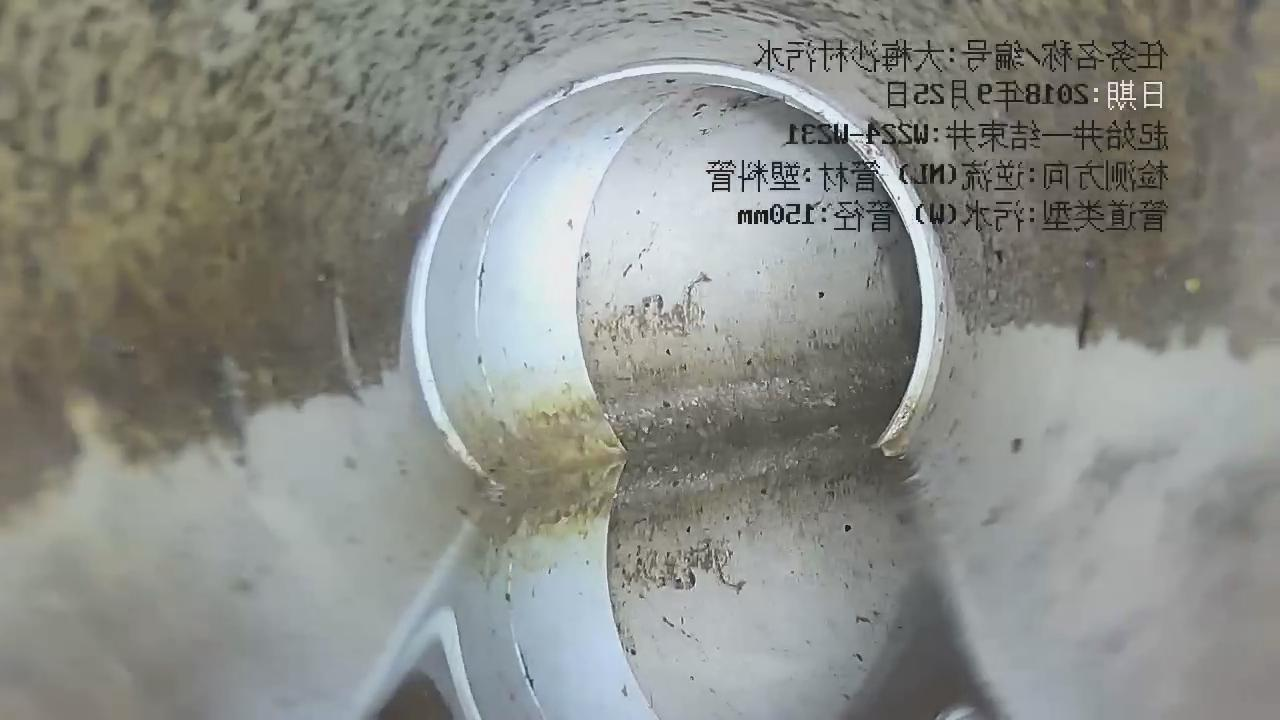CKTJ: (403, 53, 944, 498)
